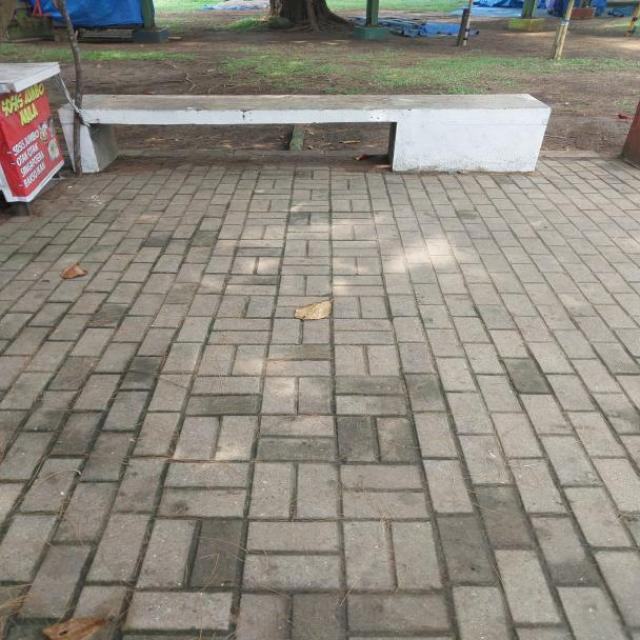bench ahead at: (60, 85, 552, 188)
